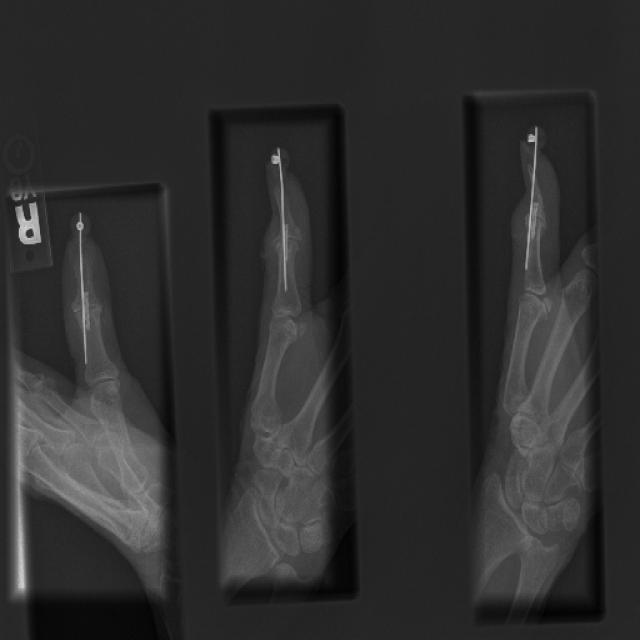fingers positive: (517, 192, 560, 252), (525, 286, 563, 340)
